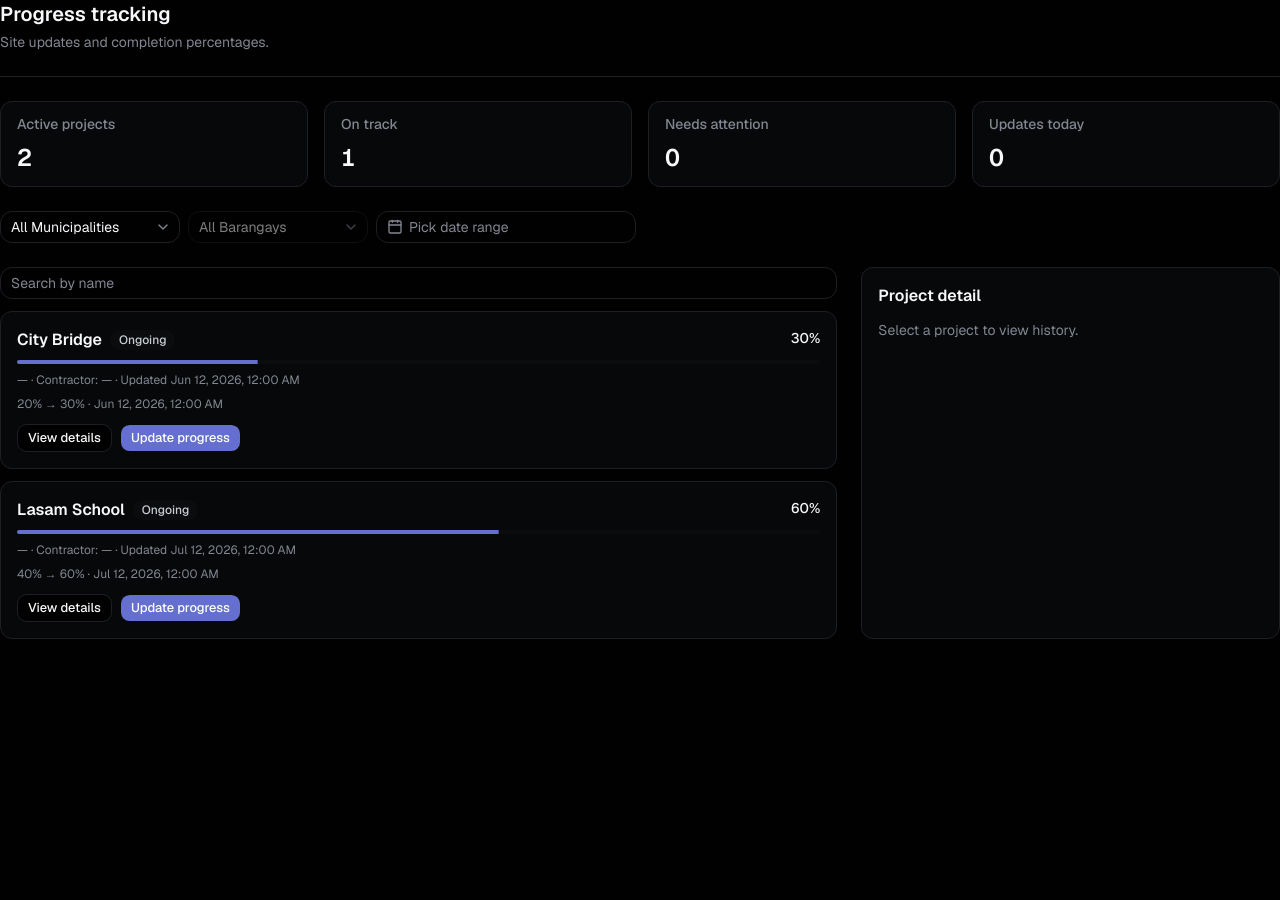
ProgressModule (V81, V84) › filters progress rows and summaries by progress update date range
Expected: the heading "City Bridge" is shown, left=17, top=328, right=102, bottom=352
Expected: the heading "Lasam School" is shown, left=17, top=498, right=125, bottom=522
Click the button "Pick date range" at (506, 227), box left=376, top=211, right=636, bottom=243
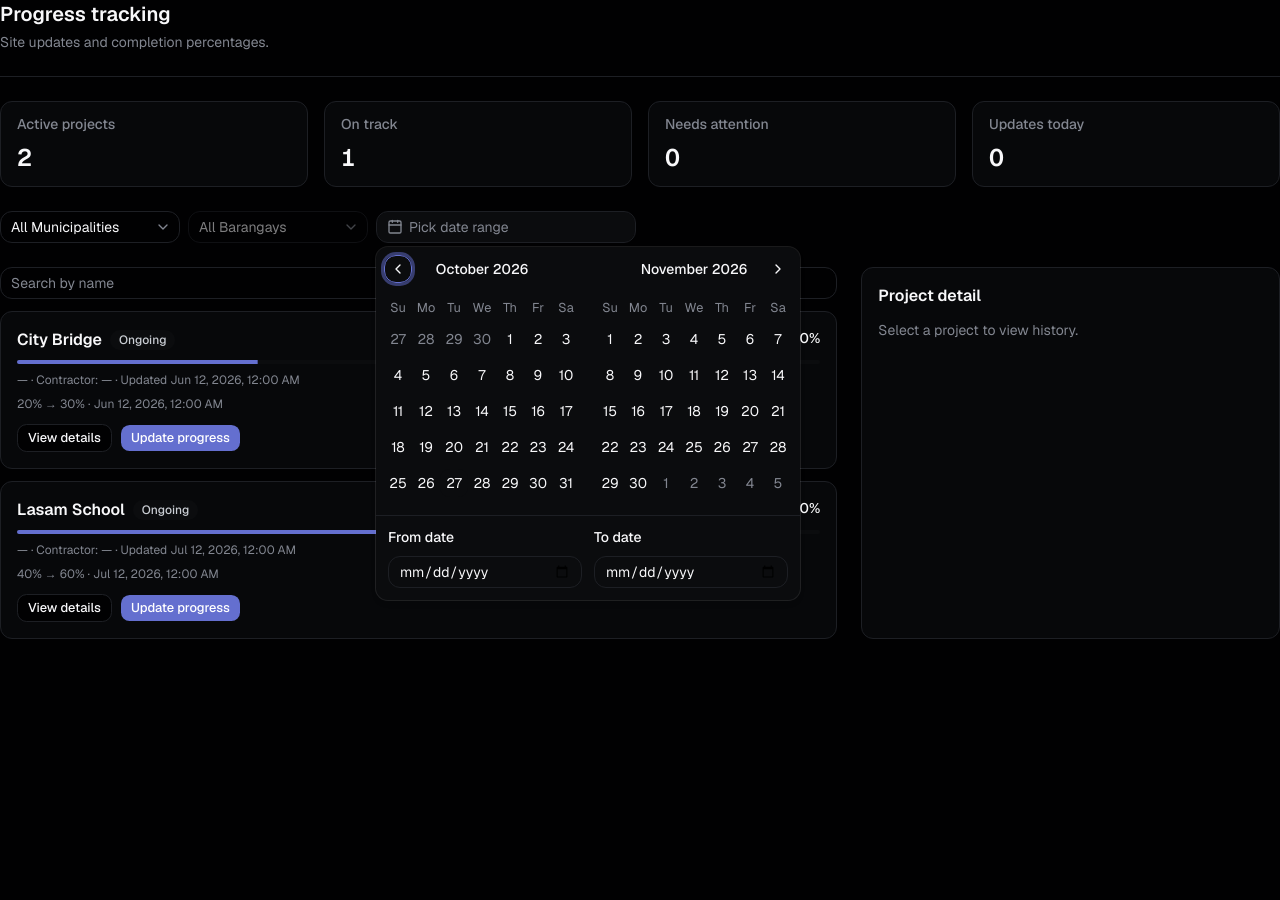
Type "2026-06-01" into the date field labelled "From date" at (485, 572), box left=388, top=556, right=582, bottom=588
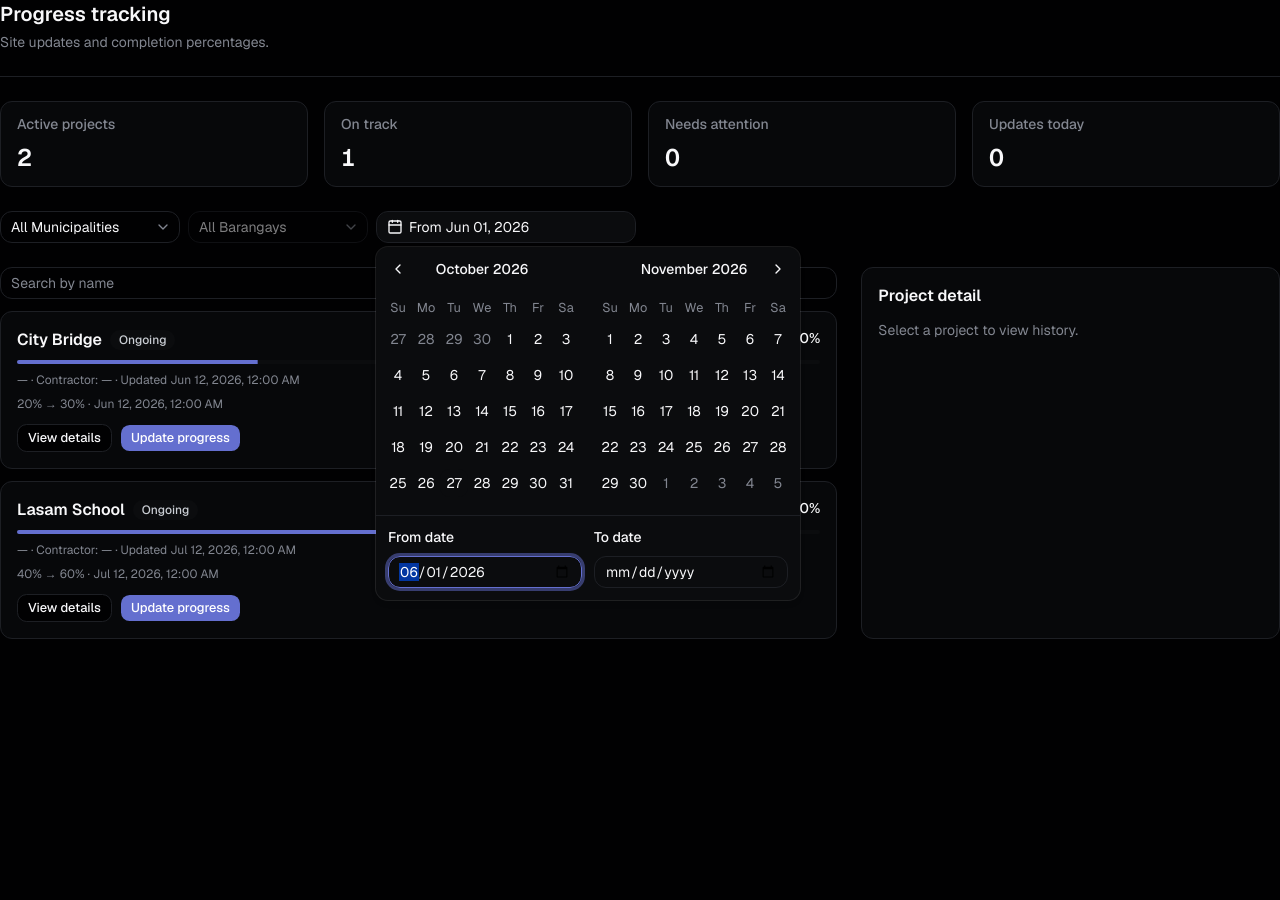
Type "2026-06-30" into the date field labelled "To date" at (691, 572), box left=594, top=556, right=788, bottom=588
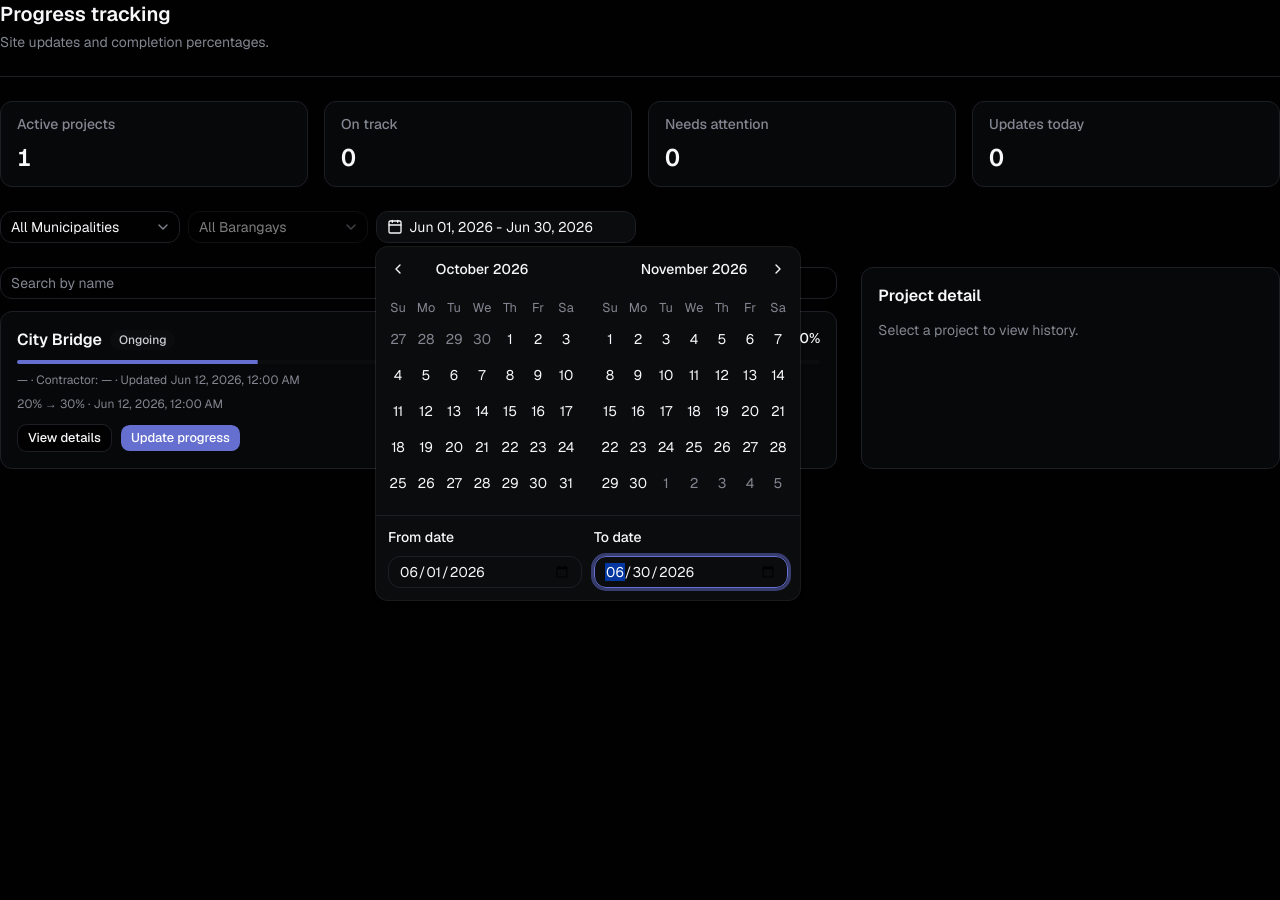
Result: the heading "Lasam School" is gone
Result: the text with test id "progress-active" reads "1" at left=17, top=142, right=31, bottom=173
Result: the text with test id "progress-on-track" reads "0" at left=341, top=142, right=355, bottom=173
